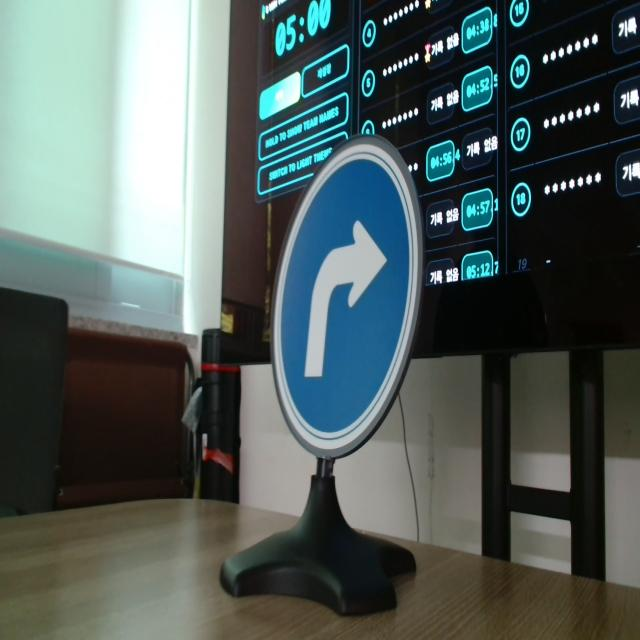right_dierection: (267, 130, 427, 464)
